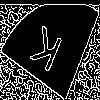K: (25, 24, 64, 82)
